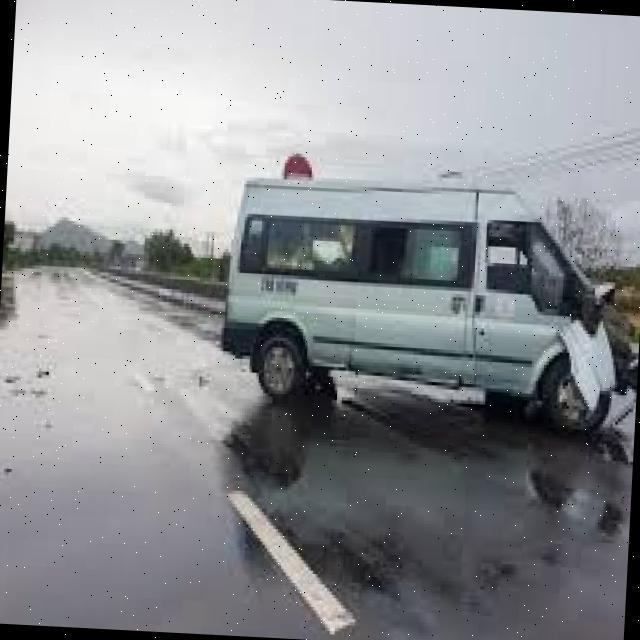accident: (412, 153, 640, 471)
